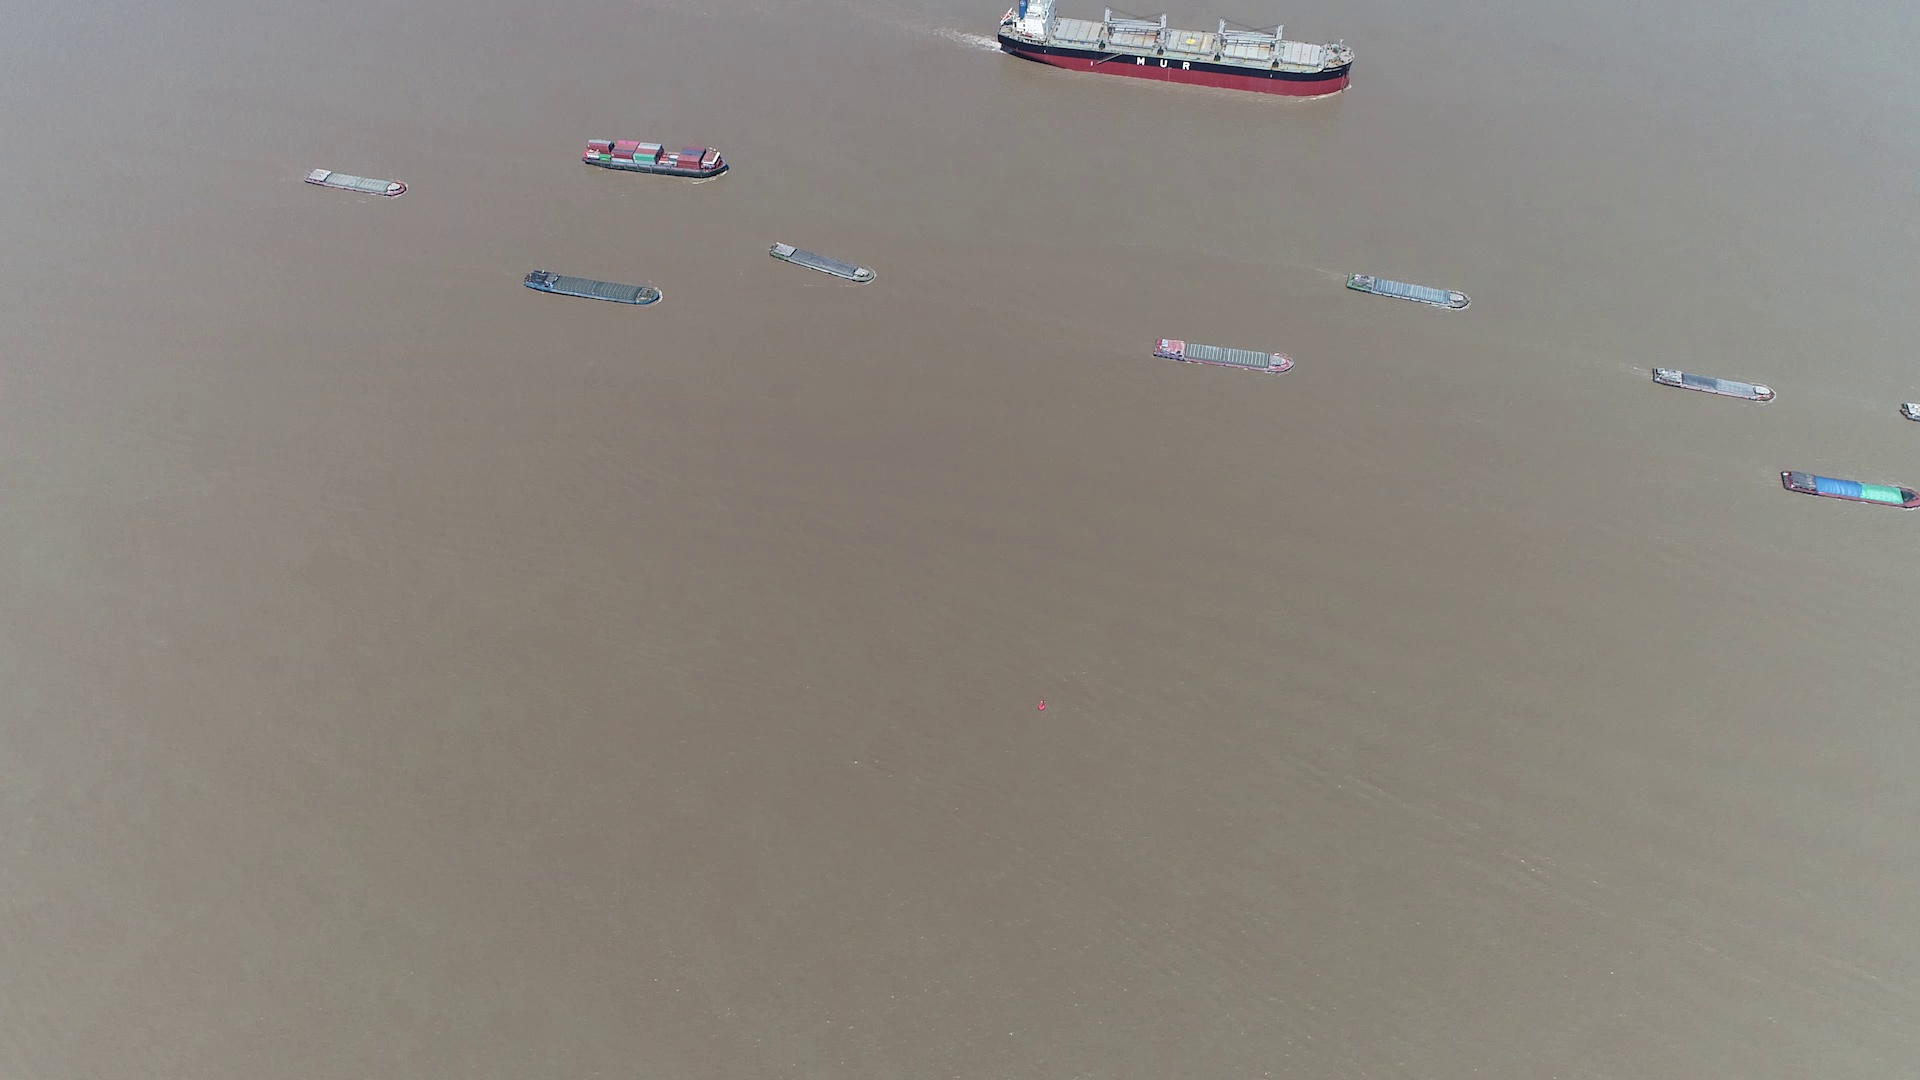ship: (1000, 0, 1350, 96), (582, 136, 731, 178), (1780, 468, 1920, 510), (1155, 338, 1295, 375), (1346, 270, 1470, 310), (525, 272, 662, 307), (770, 241, 878, 285), (1650, 367, 1772, 402), (305, 167, 407, 196)
